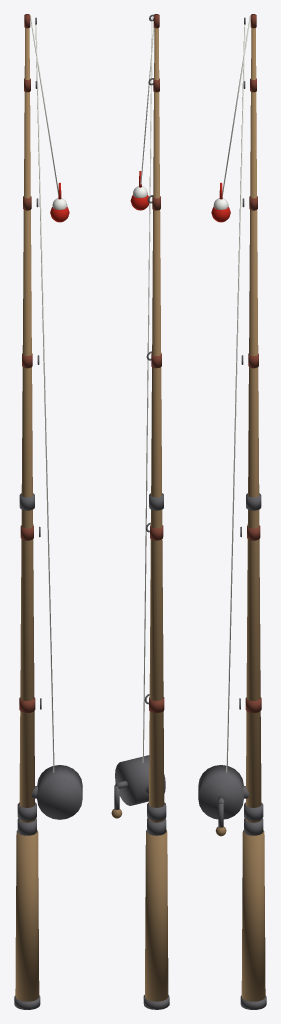
Rendered from angelrute.gewoehnlich.glb.
3 renders of one model, left to right at view 1: azimuth 90°, elevation 25°; view 2: azimuth 210°, elevation 25°; view 3: azimuth 270°, elevation 25°, orthographic.
Visible parts, largest first — view 1: angelrute; view 2: angelrute; view 3: angelrute.
Part boxes in pixels (x1,y1,x2,y2): angelrute: (14, 14, 82, 1009); angelrute: (111, 14, 169, 1009); angelrute: (198, 14, 266, 1009).
Bounding box in the file's own units: 0.09 × 2.01 × 0.126.
